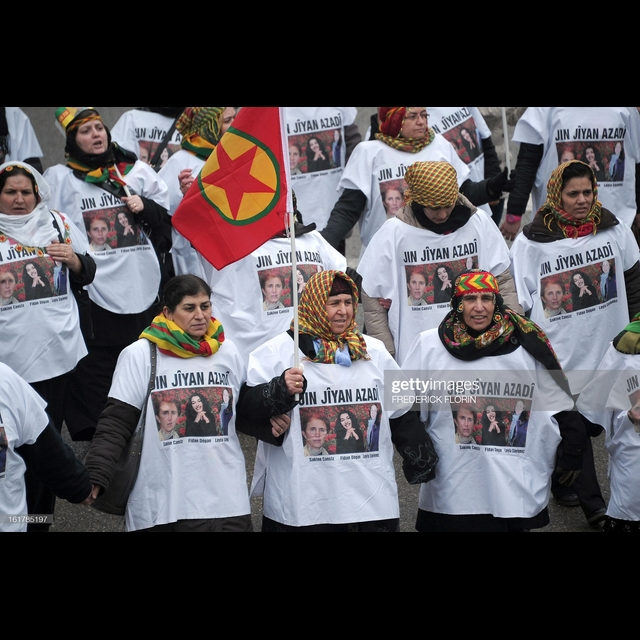PKK: (194, 126, 283, 224)
